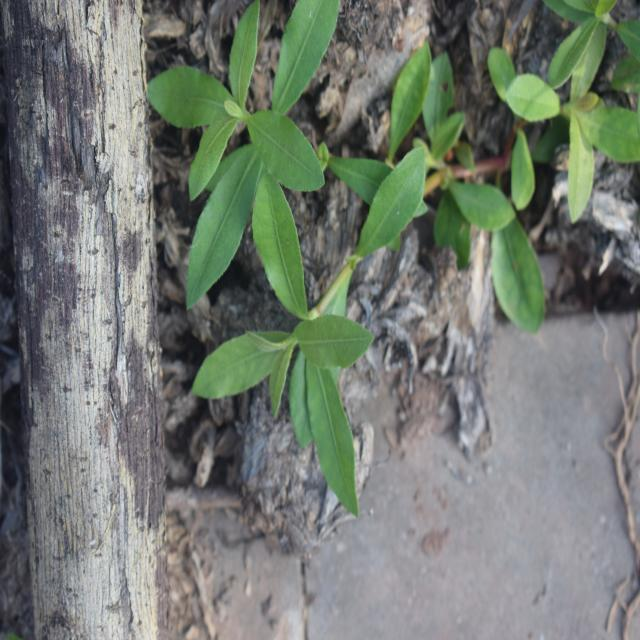Alligatorweed: (140, 12, 448, 268), (200, 174, 392, 526)
